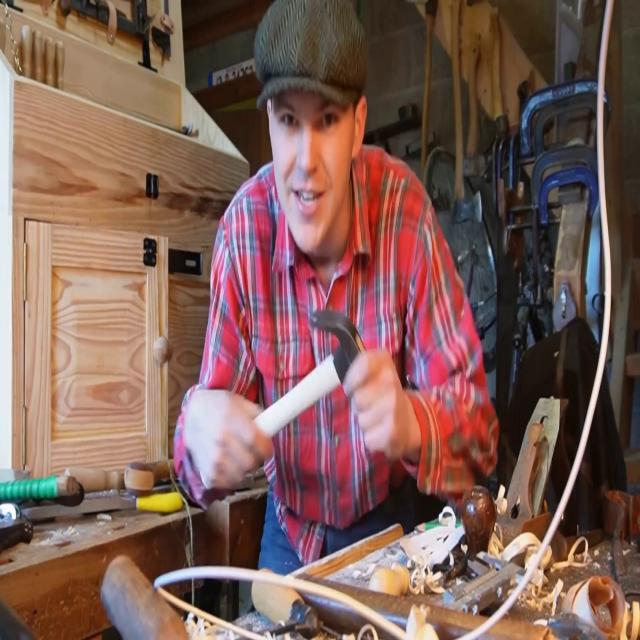hammer: (251, 309, 368, 440)
